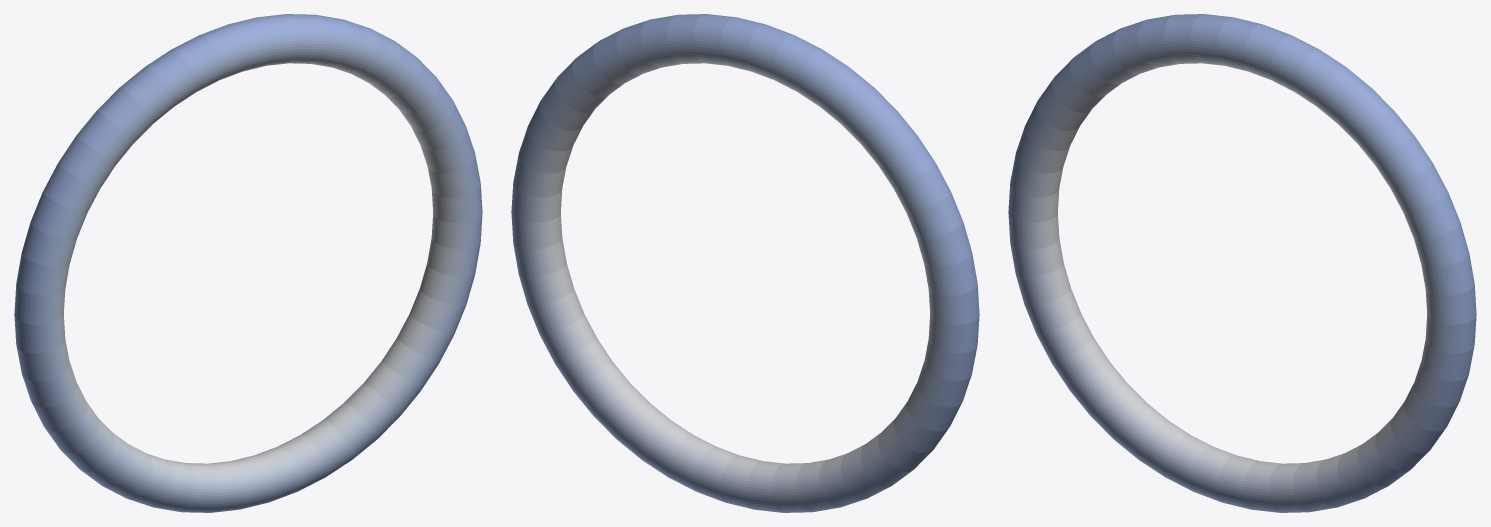
3 renders of one model, left to right at view 1: azimuth 30°, elevation 25°; view 2: azimuth 150°, elevation 25°; view 3: azimuth 330°, elevation 25°, orthographic.
Visible parts, largest first — view 1: world; view 2: world; view 3: world.
Part boxes in pixels (x1,y1,x2,y2): world: (14,14,482,512); world: (511,14,979,512); world: (1008,14,1476,512).
Bounding box in the file's own units: 33.07 × 33 × 3.06.
